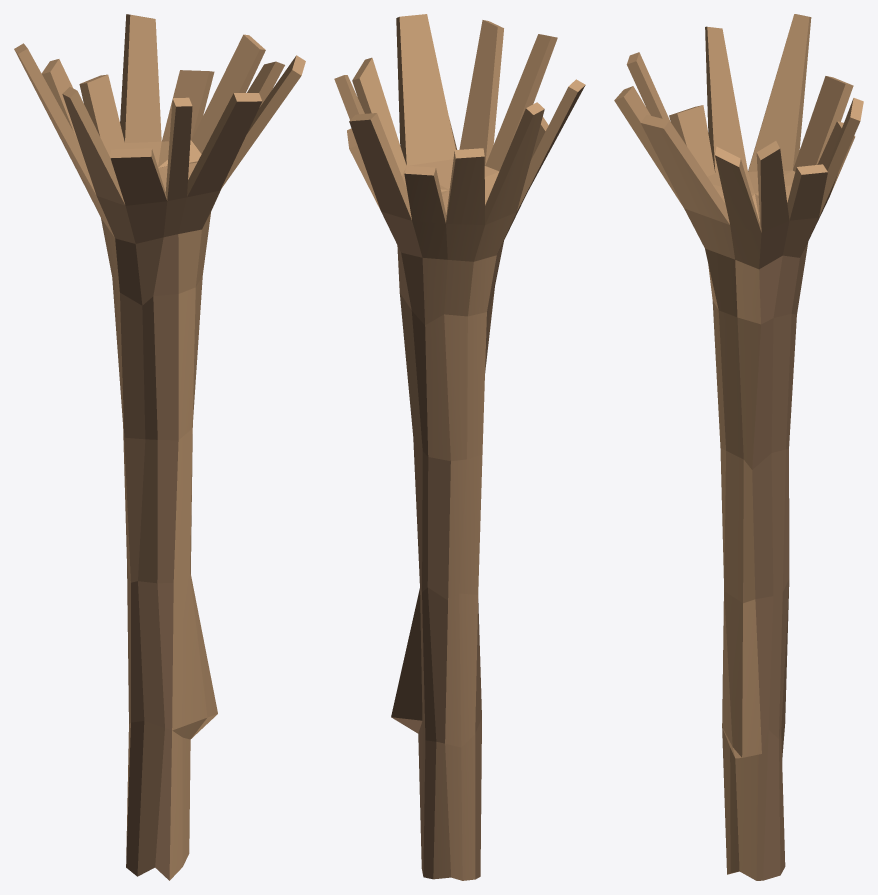
Rendered from torch.fbx.
3 views of the same model, side by side, from view 1: azimuth 30°, elevation 25°; view 2: azimuth 150°, elevation 25°; view 3: azimuth 270°, elevation 25° (orthographic). The views are drawn at different scales.
Visible parts, largest first — view 1: torch_LOD0; view 2: torch_LOD0; view 3: torch_LOD0.
Boxes of the visible parts, box(x1,y1,x2,y2) form: torch_LOD0: box(14, 14, 305, 880); torch_LOD0: box(334, 14, 585, 880); torch_LOD0: box(614, 14, 863, 880).
Size of what is drawn, in the model's own units: 0.535 by 1.86 by 0.5185.
